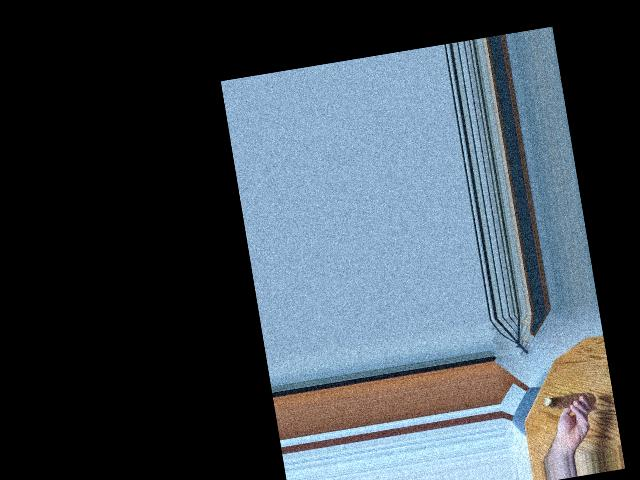sweet_potato: (542, 392, 587, 410)
